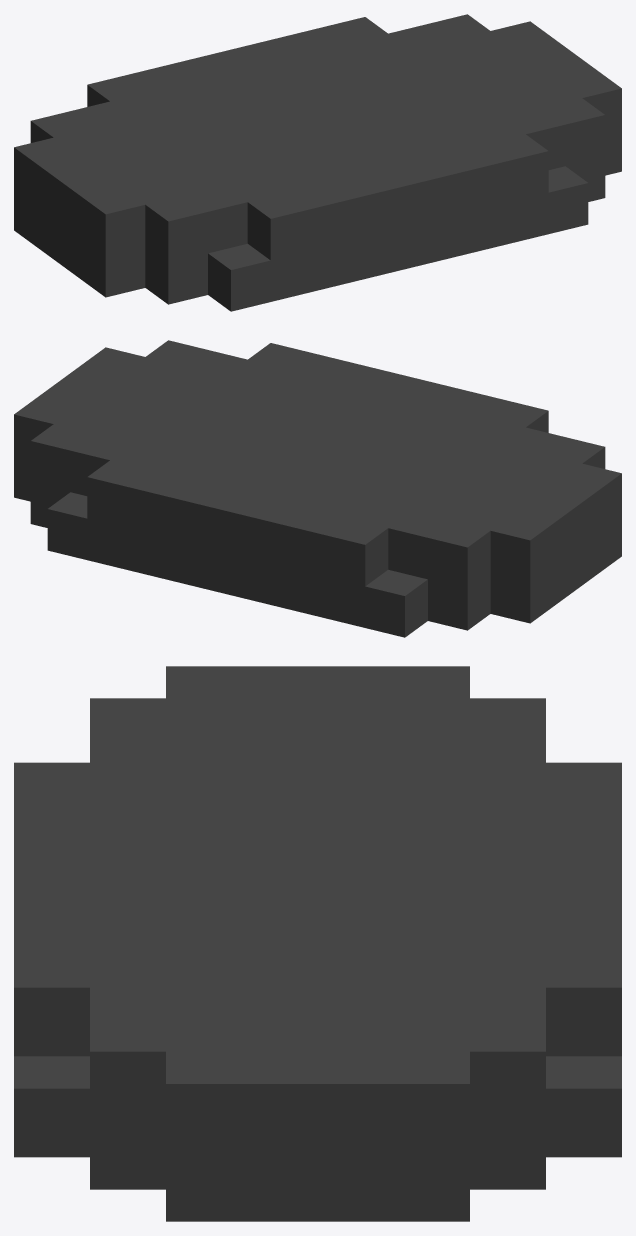
The model's file is pedra-0.obj.
The picture shows the model from 3 angles, top to bottom: view 1: azimuth 30°, elevation 25°; view 2: azimuth 150°, elevation 25°; view 3: azimuth 270°, elevation 25°; orthographic projection. The views are drawn at different scales.
Bounding box in the file's own units: 1.3 × 0.2 × 0.8.
Materials: 1 (1 with a texture image).
